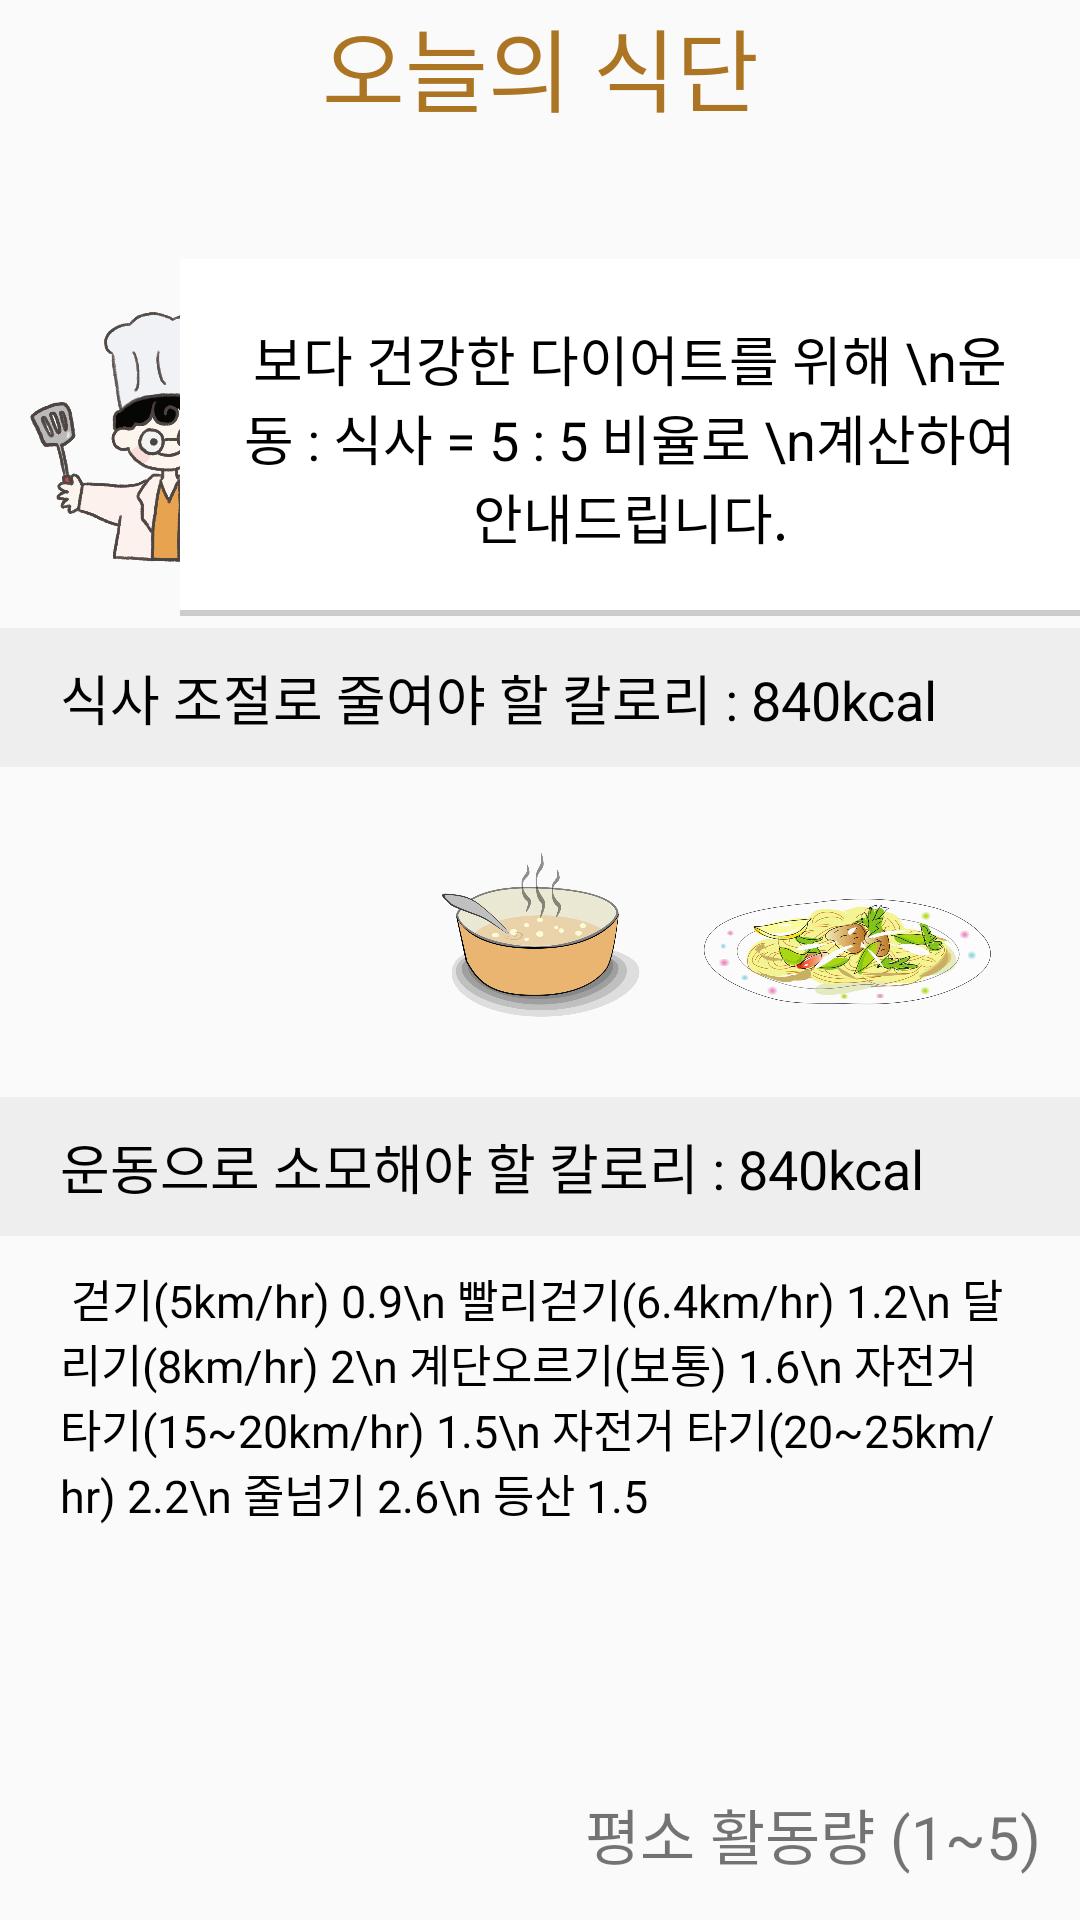

Icons on this 1080px×1920px Android screen, each with its box as (x1, y1, x2, y2):
sidedish: (704, 899, 991, 1004)
soup: (442, 853, 639, 1017)
